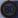Speed Limit -80-: (0, 0, 17, 17)
